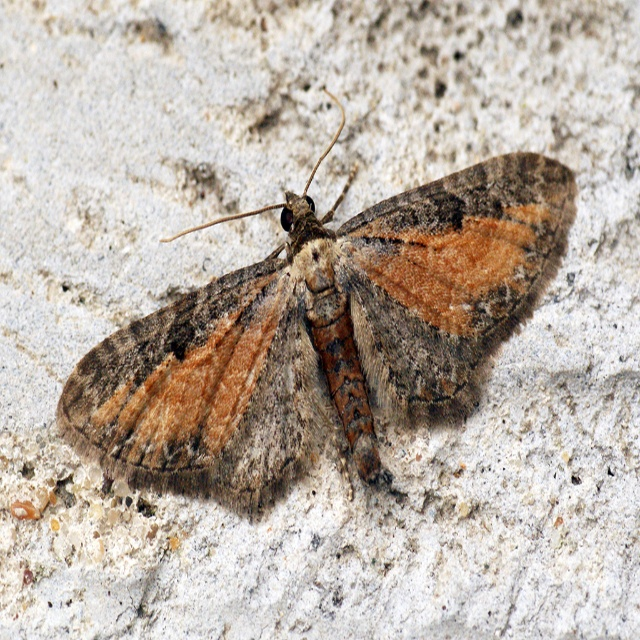Butterfly: (130, 82, 558, 511)
